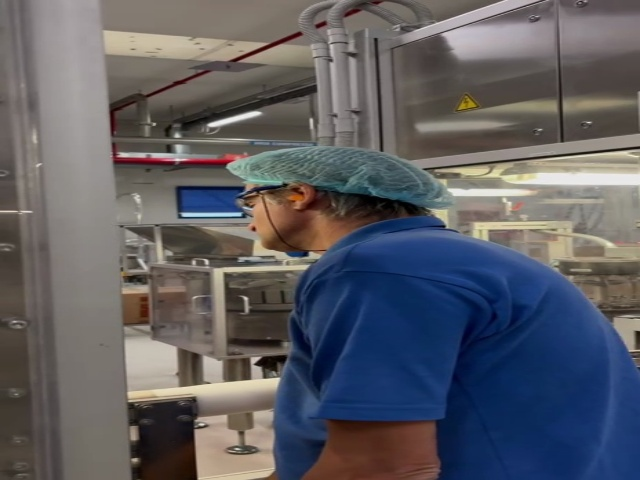Earplug: (283, 181, 316, 211)
Hairnet: (226, 142, 450, 206)
No_Helmet: (229, 141, 446, 193)
No_Vest: (292, 225, 634, 480)
Person: (228, 145, 640, 480)
Safety_Goggles: (230, 184, 288, 217)
